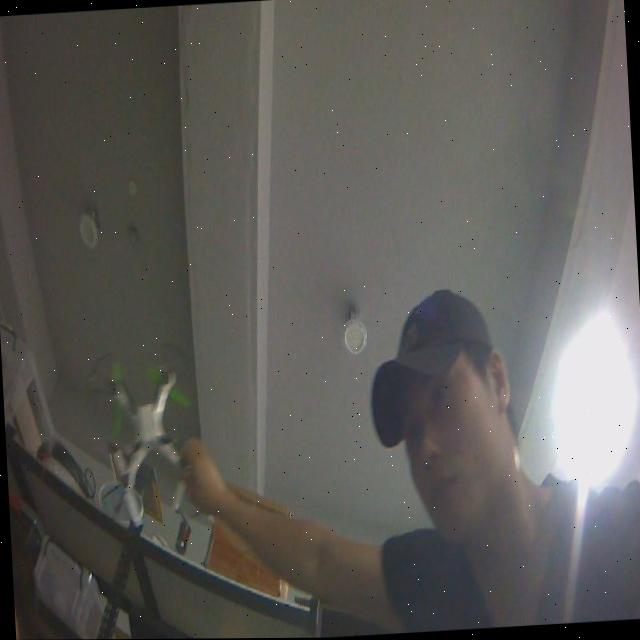drone: (81, 336, 218, 530)
